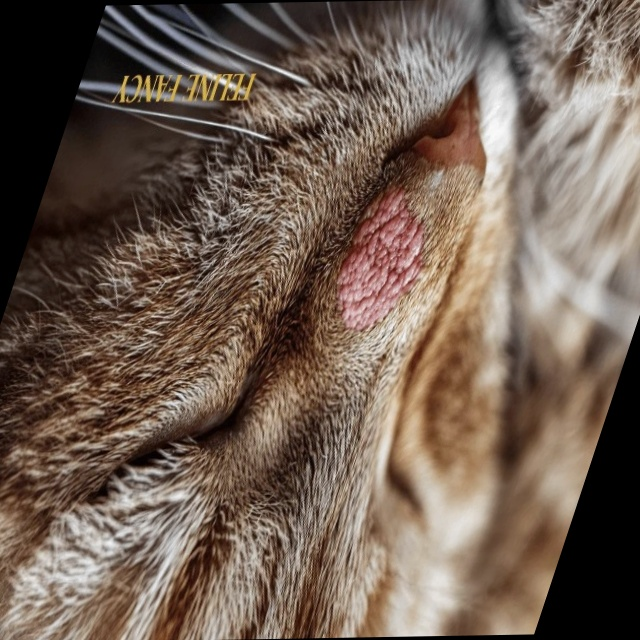lump_and_bump: (320, 185, 446, 333)
